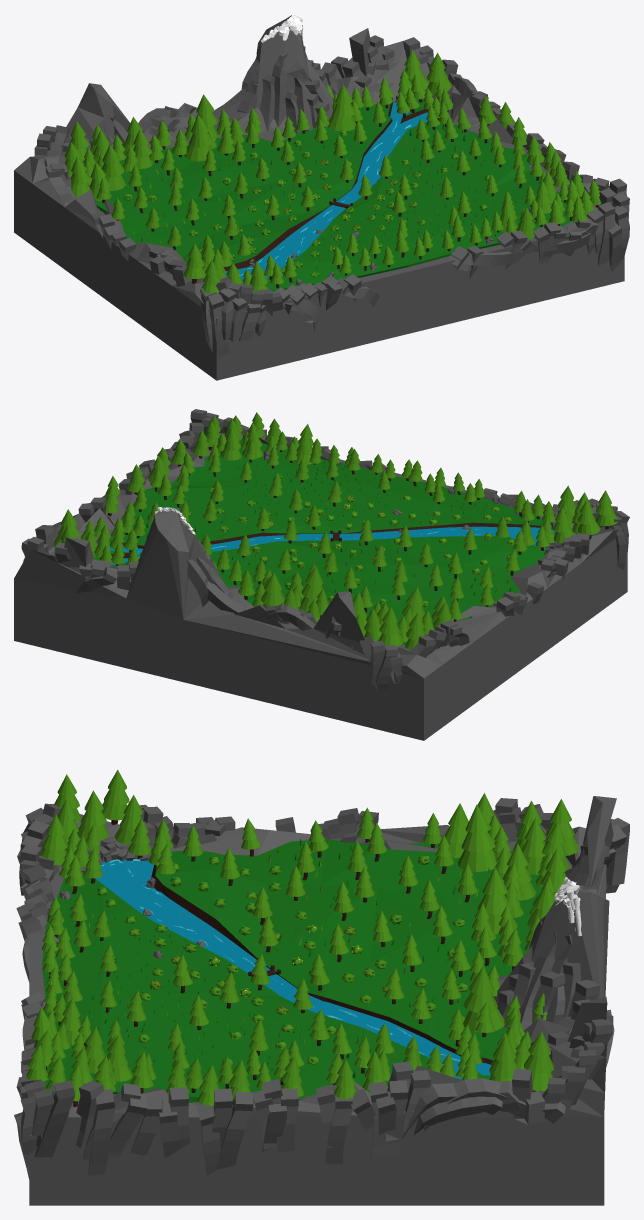
The model's file is jungle.obj.
3 renders of one model, top to bottom at view 1: azimuth 30°, elevation 25°; view 2: azimuth 150°, elevation 25°; view 3: azimuth 270°, elevation 25°, orthographic. The views are drawn at different scales.
Parts seen in each view (by area): view 1: off; view 2: off; view 3: off.
Part boxes in pixels (left/top/right/bottom): off: left=14, top=14, right=629, bottom=380; off: left=14, top=409, right=629, bottom=740; off: left=14, top=770, right=629, bottom=1205.
Bounding box in the file's own units: 4.8 × 1.72 × 4.24.
